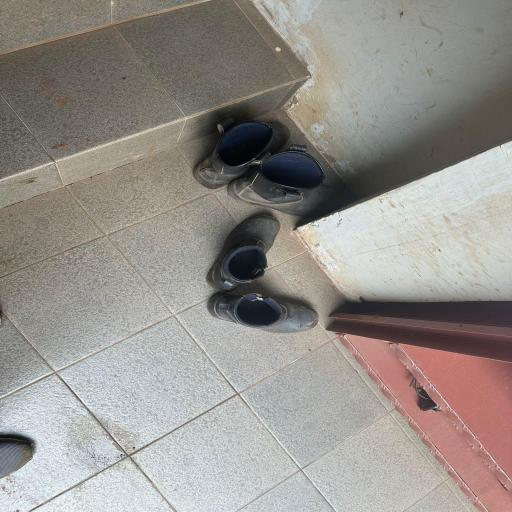safety_shoe: (227, 152, 352, 218), (186, 109, 289, 182), (205, 213, 282, 288), (208, 290, 318, 336)
